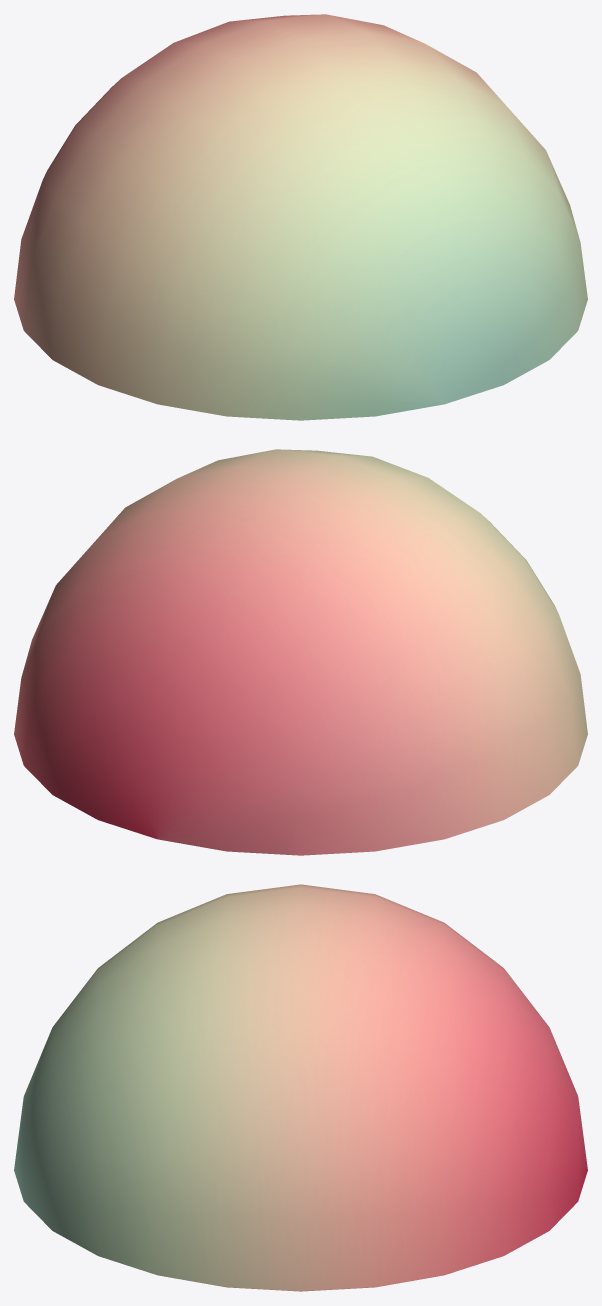
The model's file is Dome.fbx.
3 views of the same model, one above another, from view 1: azimuth 30°, elevation 25°; view 2: azimuth 150°, elevation 25°; view 3: azimuth 270°, elevation 25° (orthographic).
Visible parts, largest first — view 1: Dome; view 2: Dome; view 3: Dome.
Part boxes in pixels (x1=…): Dome: x1=14, y1=14, x2=587, y2=420; Dome: x1=14, y1=449, x2=587, y2=855; Dome: x1=14, y1=884, x2=587, y2=1291.
Size of the model in its own units: 200 by 100 by 200.
1 material, 1 textured.
